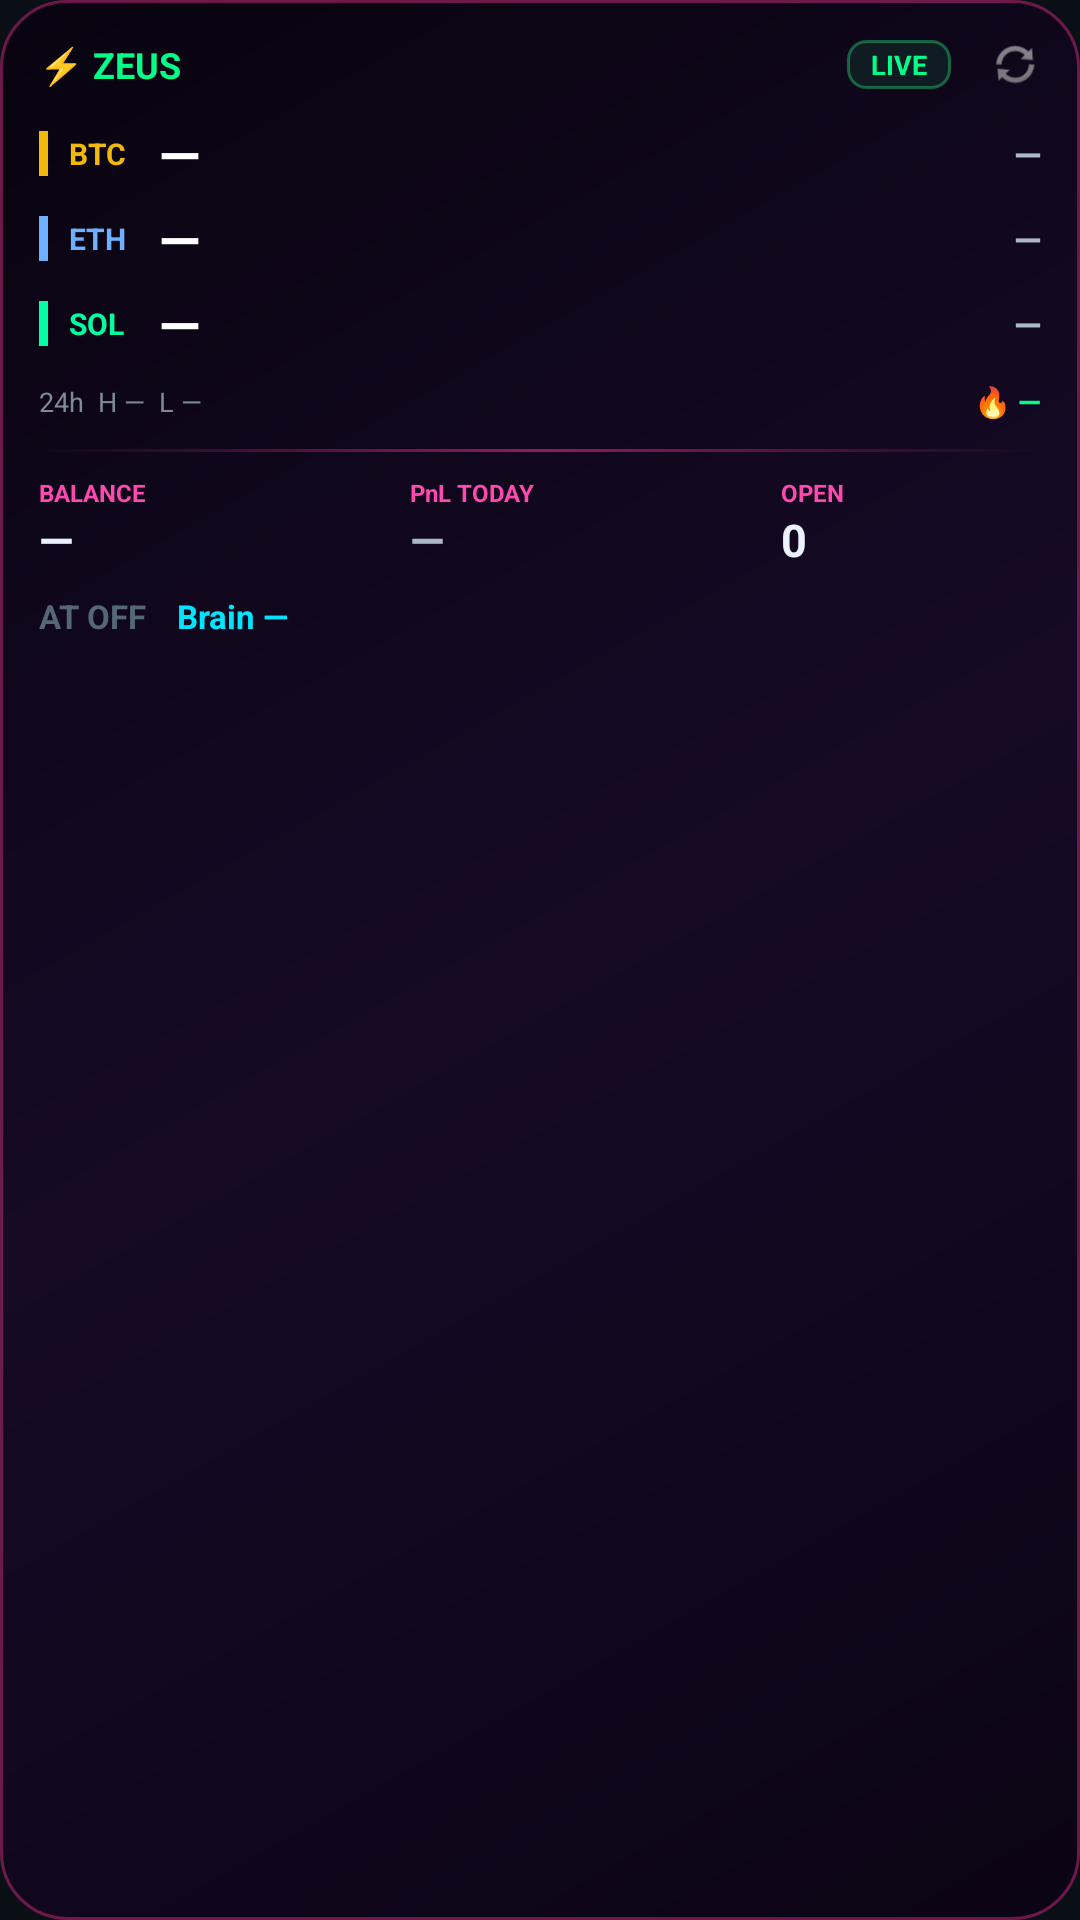

Point at icon controls on the screen. Image size 1080w x 1920h, points as (x,y).
refresh: (1015,64)
